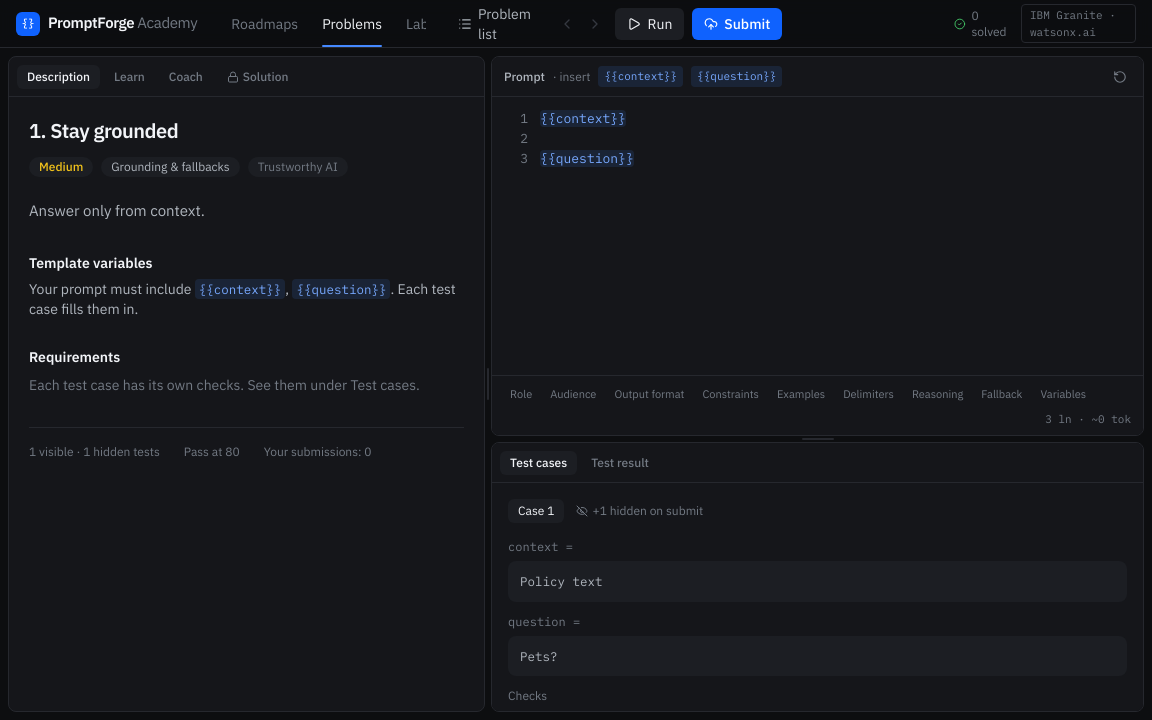
ChallengeWorkspace › run does not count as a submission
The image size is (1152, 720).
Expected: the text box named "Prompt editor" is shown, x1=492 y1=97 x2=1143 y2=376
Click the button "Run": point(650, 24) x1=616 y1=8 x2=684 y2=40
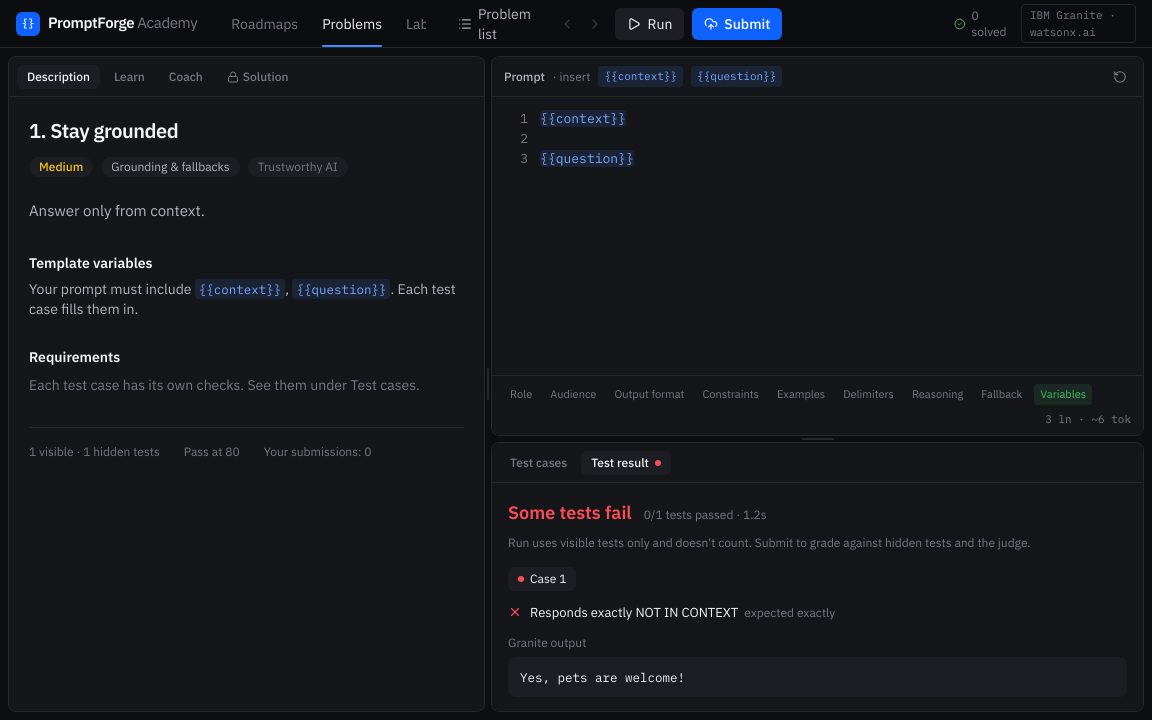
Result: the heading "Some tests fail" is shown at x1=508 y1=500 x2=632 y2=528
